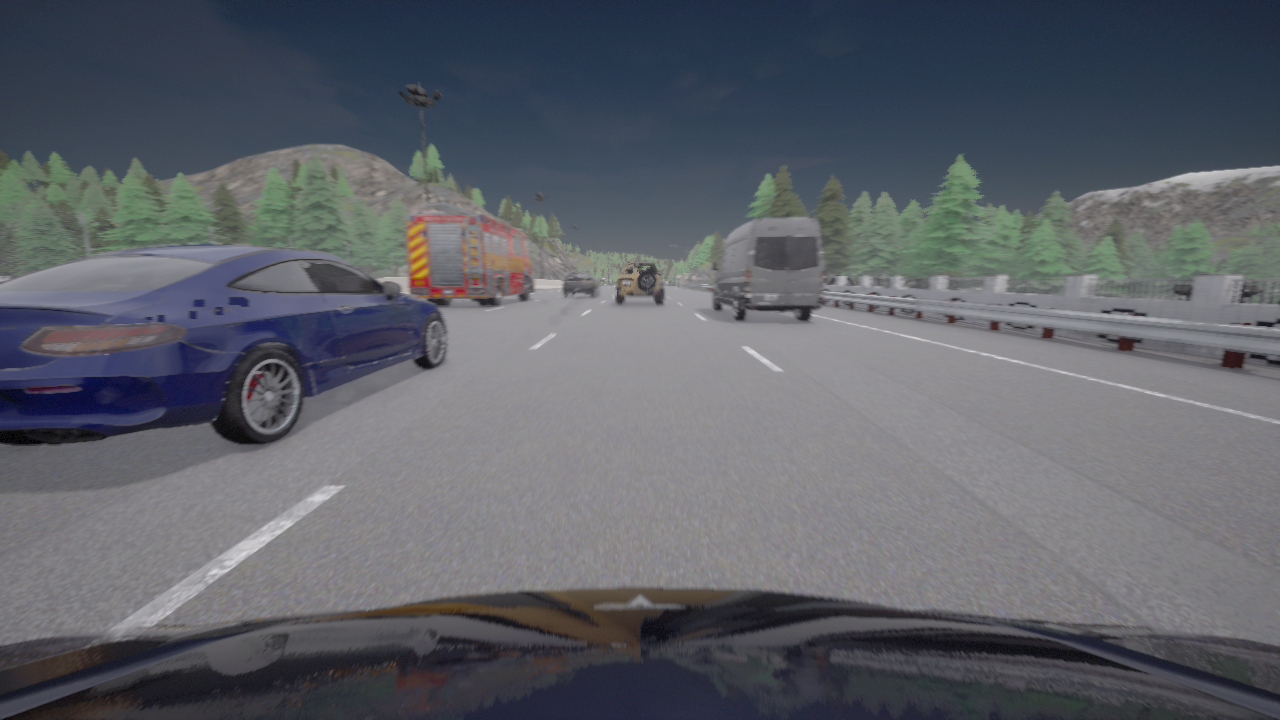cyclist: (0, 588, 1279, 719), (0, 243, 447, 444), (406, 202, 535, 305), (712, 218, 823, 320), (616, 260, 663, 304), (563, 272, 600, 297)
